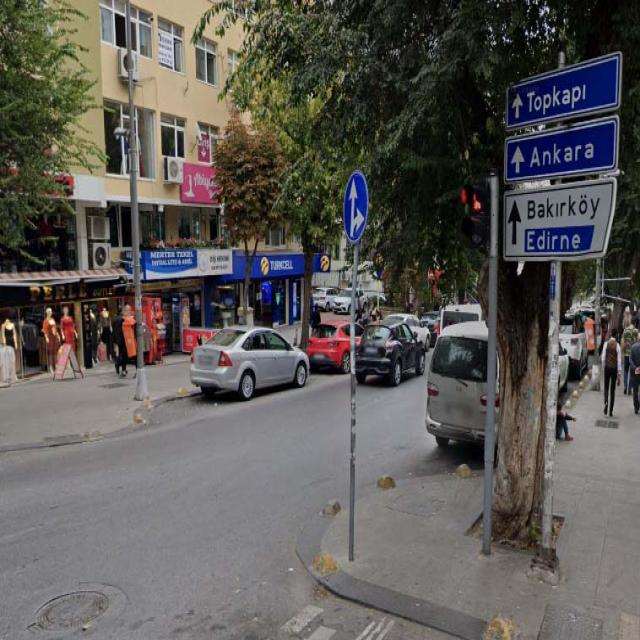ilerisag: (344, 171, 368, 242)
